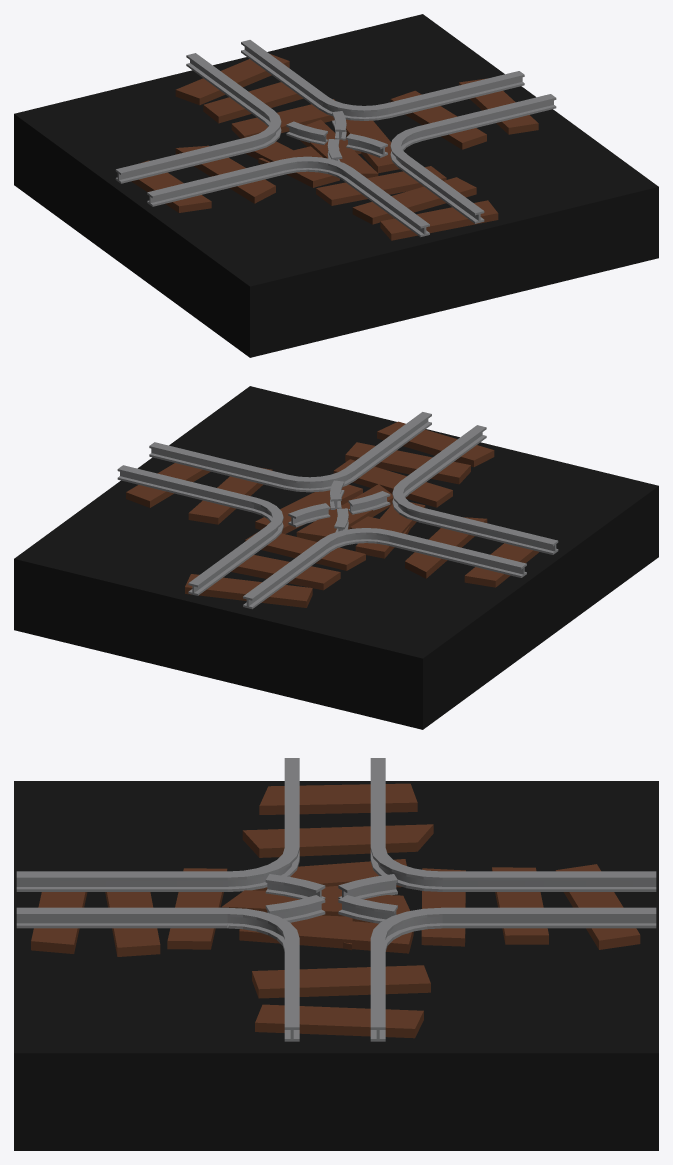
3 renders of one model, top to bottom at view 1: azimuth 30°, elevation 25°; view 2: azimuth 150°, elevation 25°; view 3: azimuth 270°, elevation 25°, orthographic. The views are drawn at different scales.
Visible parts, largest first — view 1: 4_Node_1 Ground, 4_Node_1; view 2: 4_Node_1 Ground, 4_Node_1; view 3: 4_Node_1 Ground, 4_Node_1.
Boxes of the visible parts, x1,y1,x2,y2 form: 4_Node_1 Ground: [14, 14, 658, 357]; 4_Node_1: [115, 40, 556, 240]; 4_Node_1 Ground: [14, 386, 658, 729]; 4_Node_1: [117, 412, 558, 609]; 4_Node_1 Ground: [14, 781, 658, 1150]; 4_Node_1: [16, 758, 656, 1041].
Size of the model in its own units: 118 by 24.48 by 118.
